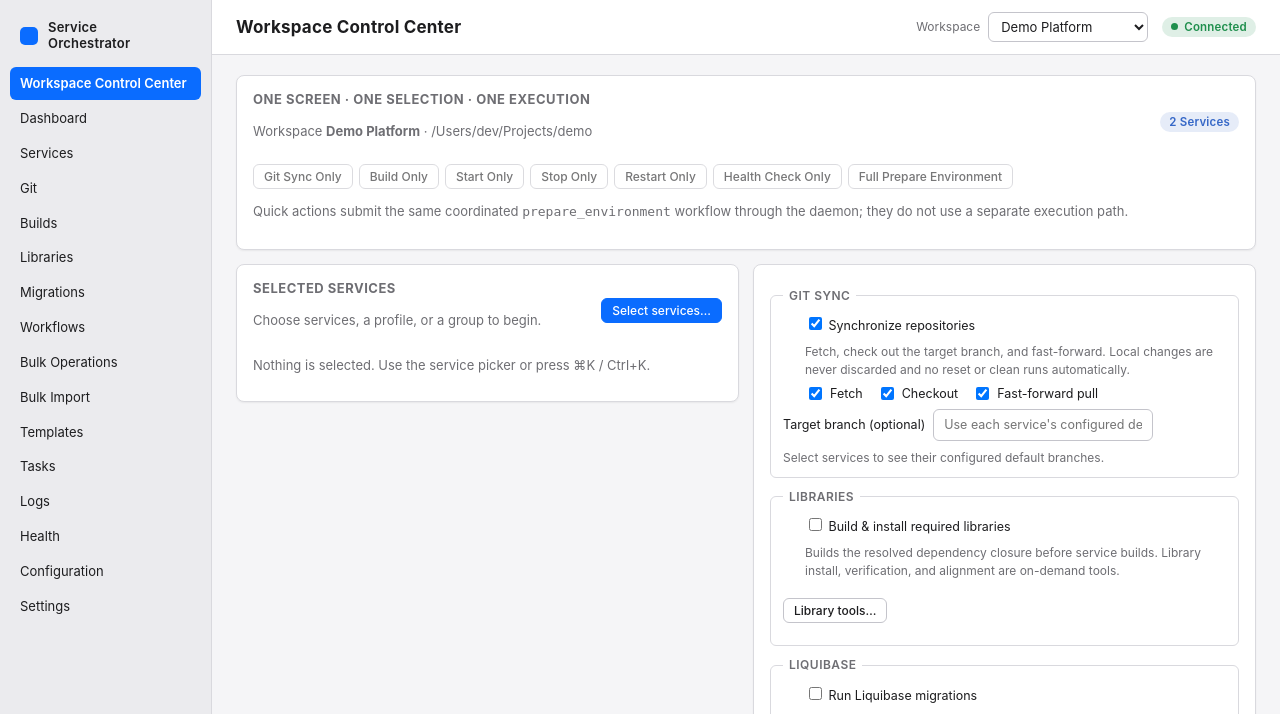
Test: services list › filters services by search text
The width and height of the screenshot is (1280, 714).
Click the button "Services" at (106, 153), box [10,137,201,170]
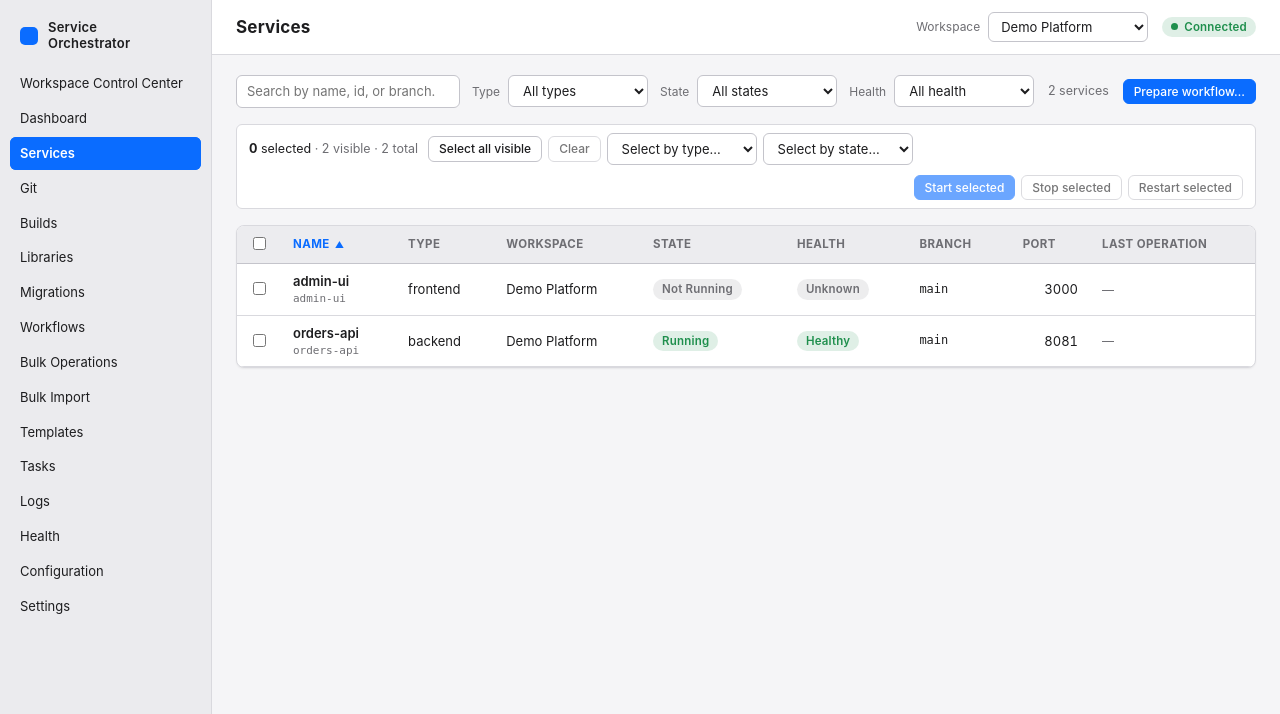
Expected: the table is shown, [237,226,1255,367]
Type "admin" into the search field named "Search services" at (348, 91), box [236,75,460,108]
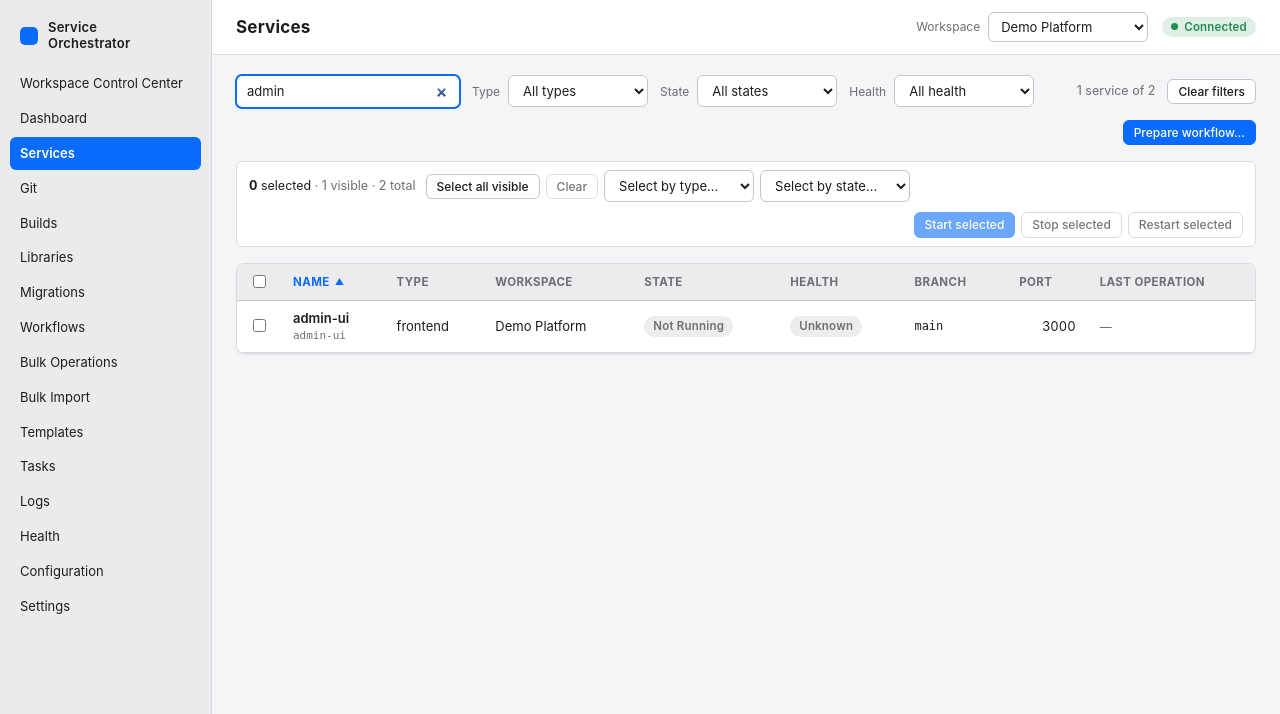
Expected: the row that starts with "admin-ui" is shown, [293,310,349,326]
Expected: the text "1 service of 2" is shown, [1077,82,1156,100]
